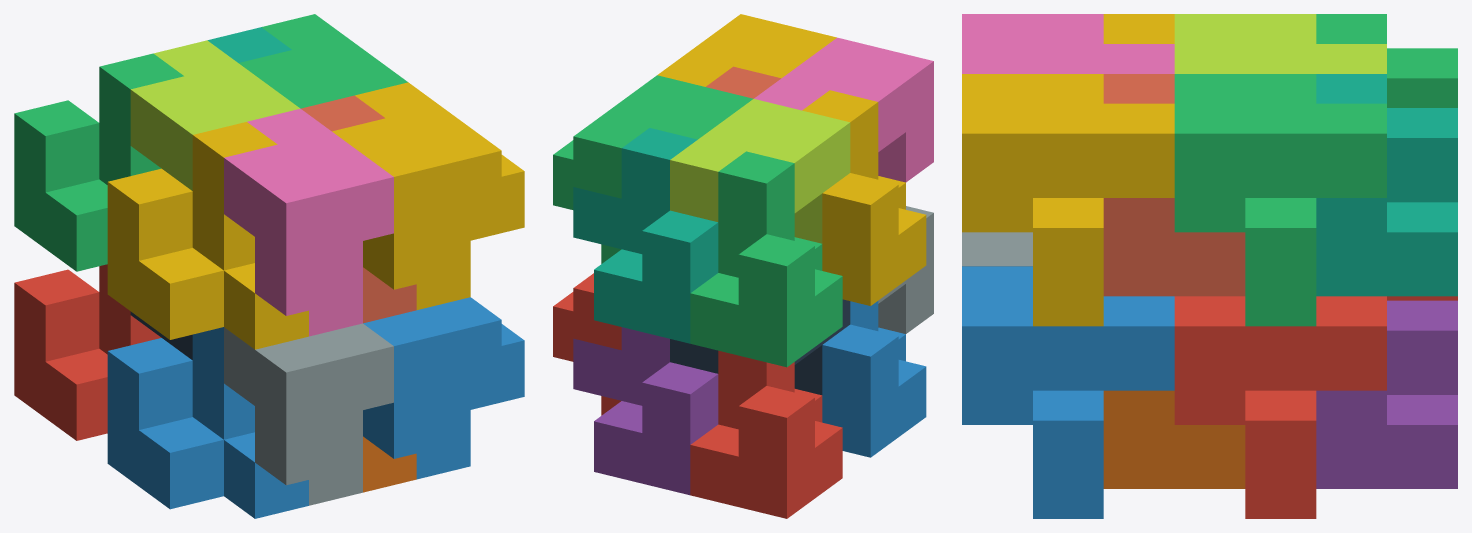
Rendered from tiling.obj.
The picture shows the model from 3 angles, left to right: view 1: azimuth 30°, elevation 25°; view 2: azimuth 150°, elevation 25°; view 3: azimuth 270°, elevation 25°; orthographic projection. The views are drawn at different scales.
Parts seen in each view (by area): view 1: copy_1_domain_4, copy_2_domain_4, copy_2_domain_8, copy_1_domain_2, copy_2_domain_2, copy_2_domain_6, copy_1_domain_3, copy_1_domain_1, copy_2_domain_3, copy_2_domain_7, copy_1_domain_8, copy_1_domain_6 (+1 smaller); view 2: copy_1_domain_3, copy_1_domain_7, copy_1_domain_1, copy_1_domain_5, copy_1_domain_4, copy_2_domain_3, copy_2_domain_4, copy_1_domain_2, copy_2_domain_7, copy_2_domain_8, copy_2_domain_5, copy_2_domain_2 (+2 smaller); view 3: copy_2_domain_7, copy_2_domain_8, copy_2_domain_6, copy_2_domain_5, copy_1_domain_7, copy_1_domain_5, copy_1_domain_8, copy_1_domain_6, copy_2_domain_3, copy_2_domain_4, copy_1_domain_3, copy_2_domain_2 (+1 smaller).
Part boxes in pixels (x1,y1,x2,y2): copy_1_domain_4: (107,122,308,349); copy_2_domain_4: (224,108,393,336); copy_2_domain_8: (332,82,524,309); copy_1_domain_2: (107,327,308,518); copy_2_domain_2: (224,323,393,505); copy_2_domain_6: (363,297,524,479); copy_1_domain_3: (14,53,183,271); copy_1_domain_1: (14,264,161,440); copy_2_domain_3: (130,40,299,190); copy_2_domain_7: (238,14,407,108); copy_1_domain_8: (301,95,416,323); copy_1_domain_6: (363,436,416,492); copy_1_domain_3: (690,151,842,367); copy_1_domain_7: (573,128,718,343); copy_1_domain_1: (690,350,842,518); copy_1_domain_5: (573,327,718,495); copy_1_domain_4: (802,90,926,305); copy_2_domain_3: (670,99,850,243); copy_2_domain_4: (754,37,933,182); copy_1_domain_2: (822,301,926,457); copy_2_domain_7: (553,75,753,263); copy_2_domain_8: (657,14,836,86); copy_2_domain_5: (553,273,621,415); copy_2_domain_2: (878,206,933,333); copy_2_domain_7: (1174,74,1386,326); copy_2_domain_8: (962,74,1174,326); copy_2_domain_6: (962,266,1174,518); copy_2_domain_5: (1174,296,1386,518); copy_1_domain_7: (1316,74,1457,296); copy_1_domain_5: (1316,300,1457,488); copy_1_domain_8: (1103,74,1245,296); copy_1_domain_6: (1103,390,1245,488); copy_2_domain_3: (1174,14,1386,73); copy_2_domain_4: (962,14,1174,73); copy_1_domain_3: (1316,14,1457,107); copy_2_domain_2: (962,232,1032,266).
Size of the model in its own units: 6 by 6 by 7.
